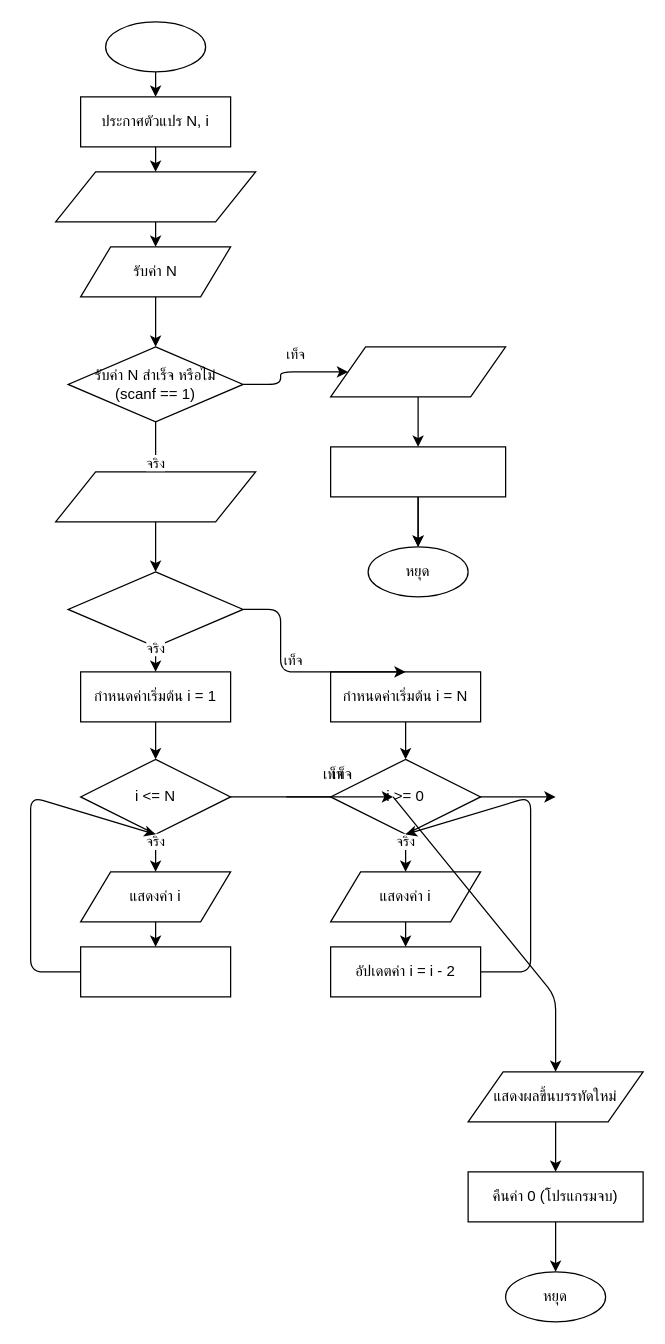
The diagram is 665 pixels wide and 1344 high, and some of its shapes have lost their labels. The shapes that lost their labels are listed below. From the top down, each one's centre as x and y in pixels, then its label:
the point at 155,46: เริ่มต้น
the point at 155,196: แสดงข้อความ "Enter value:"
the point at 417,371: แสดงข้อความ "Invalid input."
the point at 417,471: คืนค่า 1 (โปรแกรมจบ)
the point at 155,496: แสดงข้อความ "Series: "
the point at 155,609: N เป็นเลขคี่หรือไม่ (N % 2 != 0)
the point at 155,971: อัปเดตค่า i = i + 2
